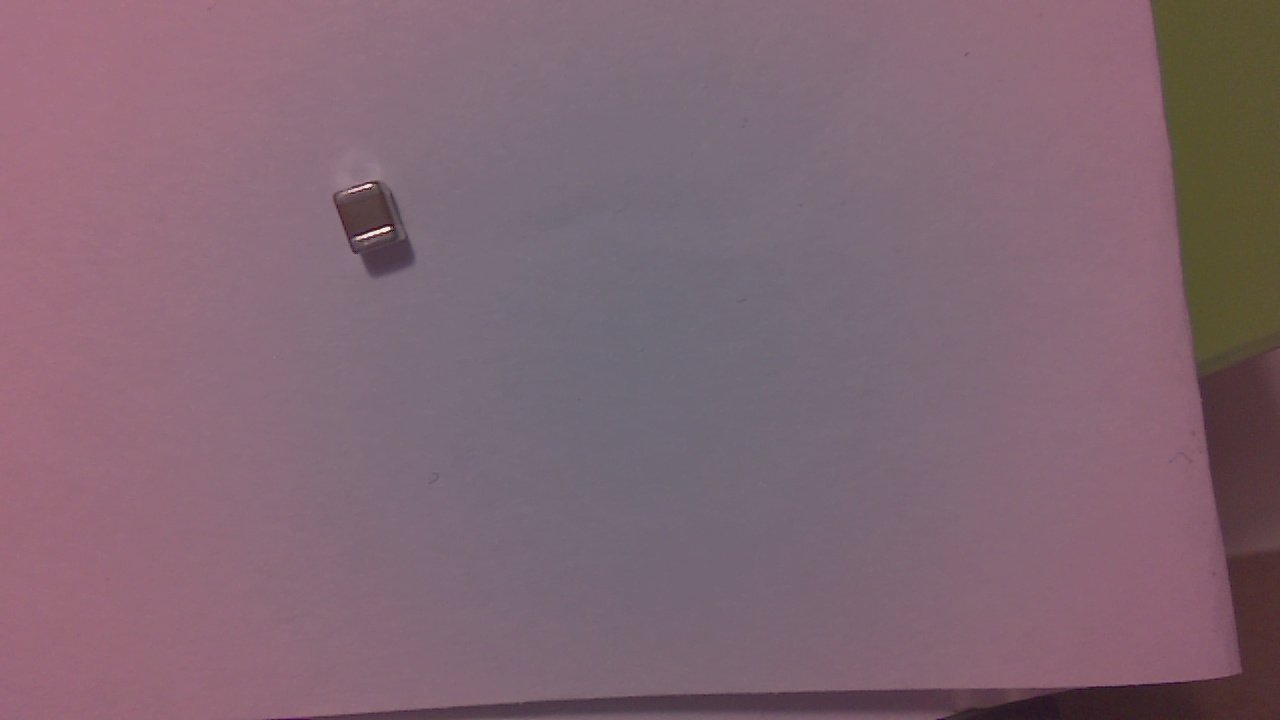Condensator: (334, 184, 412, 262)
